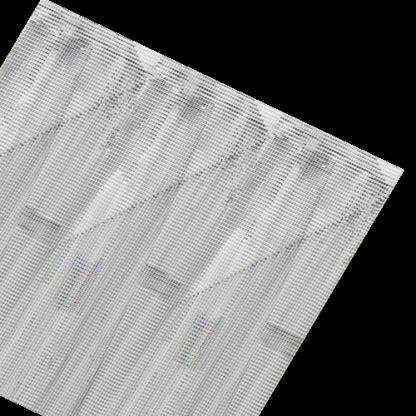Damage: (115, 54, 206, 124)
